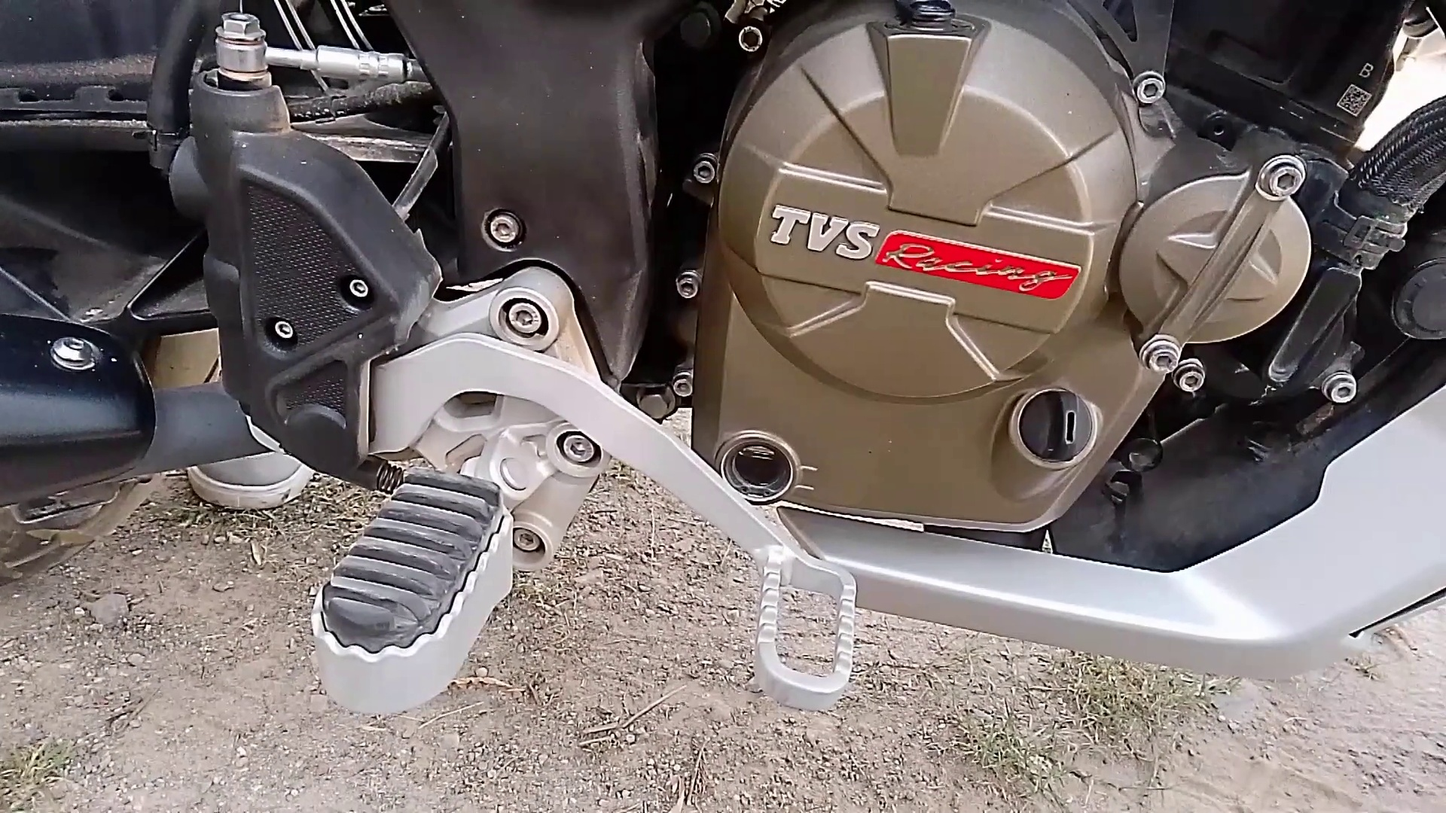bike-engine: (684, 11, 1317, 526)
bike-engine-level: (707, 418, 797, 503)
bike-oil-cap: (997, 379, 1118, 473)
